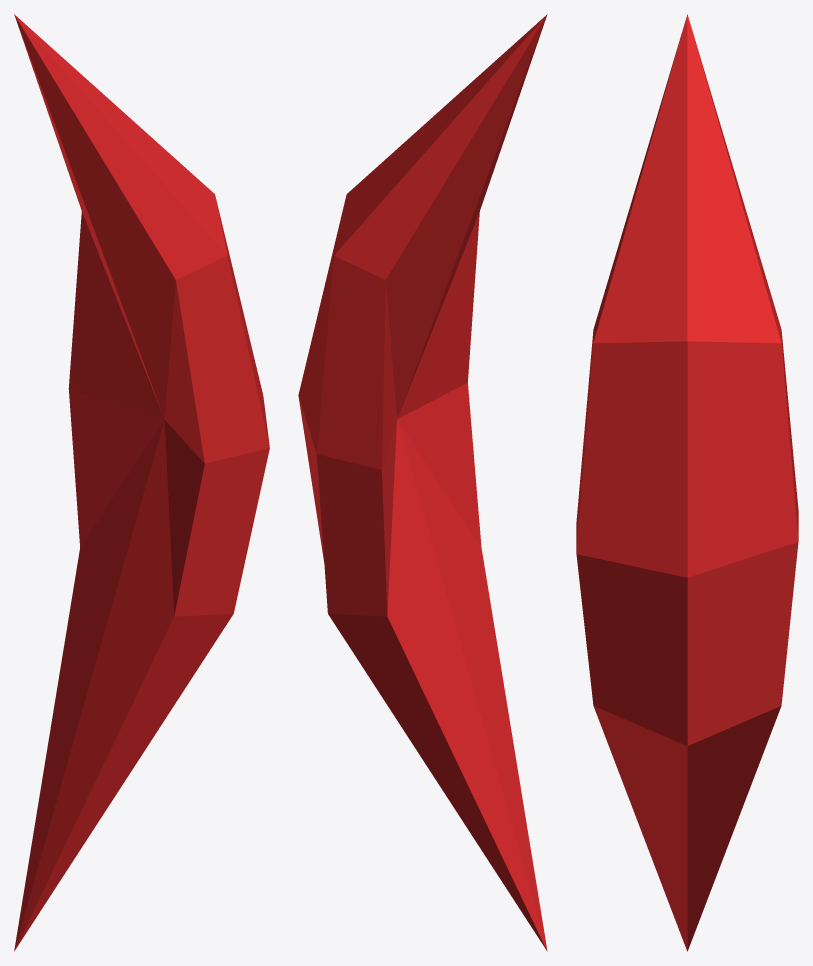
The model's file is BOSS_Bullet_2.fbx.
3 renders of one model, left to right at view 1: azimuth 30°, elevation 25°; view 2: azimuth 150°, elevation 25°; view 3: azimuth 270°, elevation 25°, orthographic.
Visible parts, largest first — view 1: Cube; view 2: Cube; view 3: Cube.
Boxes of the visible parts, x1,y1,x2,y2 form: Cube: (14,14,269,951); Cube: (298,14,547,951); Cube: (576,14,798,951).
Bounding box in the file's own units: 244 × 877 × 188.
